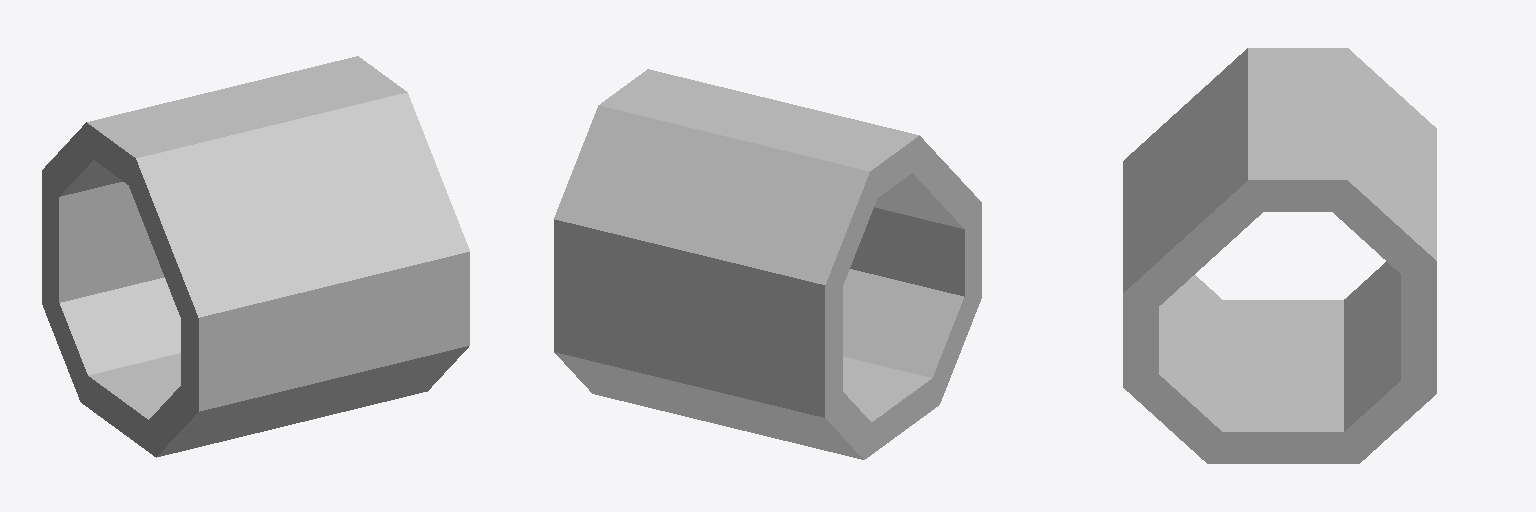
File: trunk3_fallen.obj
3 renders of one model, left to right at view 1: azimuth 30°, elevation 25°; view 2: azimuth 150°, elevation 25°; view 3: azimuth 270°, elevation 25°, orthographic.
Visible parts, largest first — view 1: Cube.009_Cube.004; view 2: Cube.009_Cube.004; view 3: Cube.009_Cube.004.
Boxes of the visible parts, x1,y1,x2,y2 form: Cube.009_Cube.004: [42, 56, 469, 457]; Cube.009_Cube.004: [554, 69, 981, 459]; Cube.009_Cube.004: [1123, 48, 1436, 463].
Bounding box in the file's own units: 1 × 1 × 1.